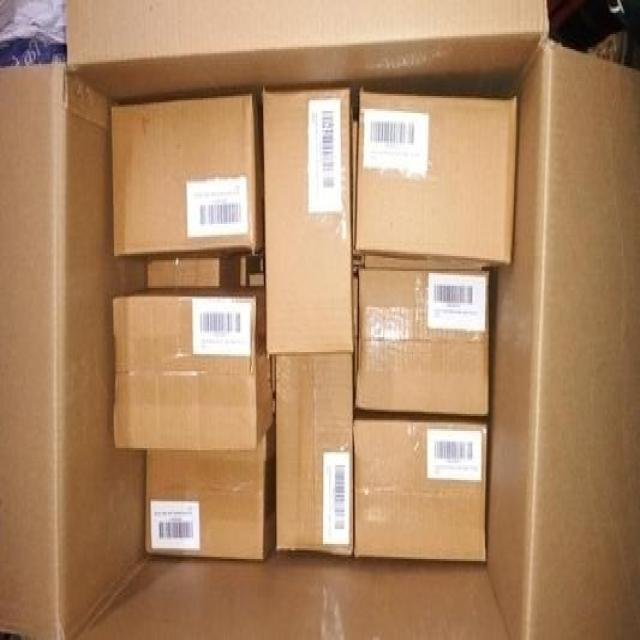box: (356, 92, 516, 265), (114, 286, 275, 450), (262, 90, 353, 356), (112, 97, 257, 256), (356, 269, 489, 413), (352, 422, 488, 560), (145, 423, 277, 560), (274, 353, 351, 554), (148, 254, 241, 287)
